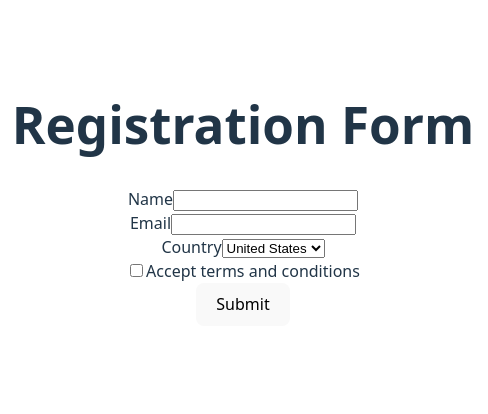
Test: ComplexForm › shows validation errors and submits correctly - user event
The image size is (488, 414).
// Submit without filling anything
Click the button.
click(243, 304)  # box [196,283,290,326]
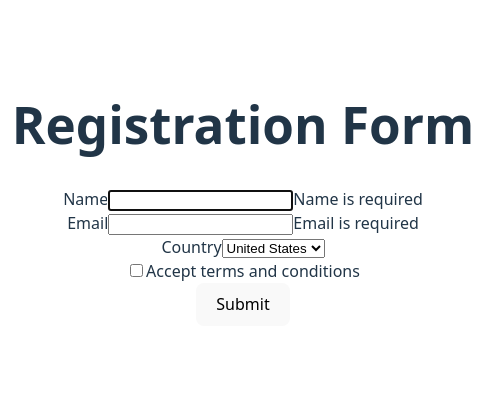
expect the text "Name is required" is shown: met, box [293,188,423,210]
expect the text "Email is required" is shown: met, box [293,212,419,234]
// Fill the form
Type "Alice" into the field labelled "Name".
click(201, 200); type("Alice")  # box [108,190,293,211]
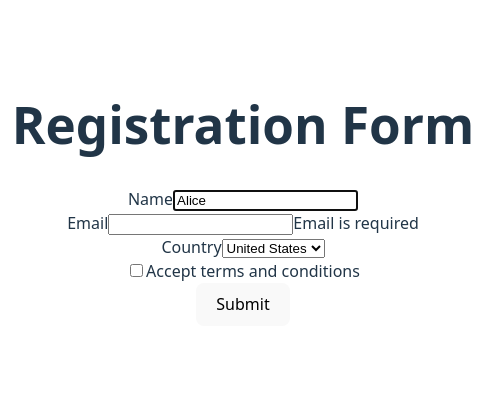
Type "alice@example.com" into the field labelled "Email".
click(201, 224); type("alice@example.com")  # box [108,214,293,235]
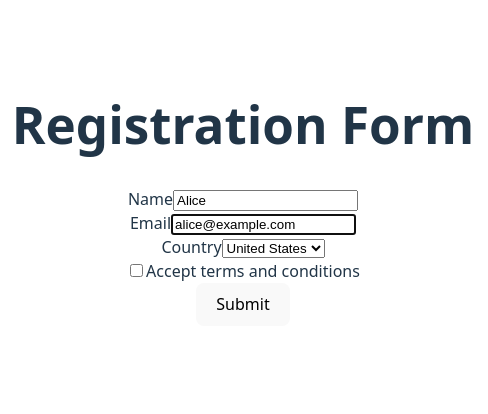
Select "Argentina" in the dropdown labelled "Country" at (273, 248), box [222,239,325,258]
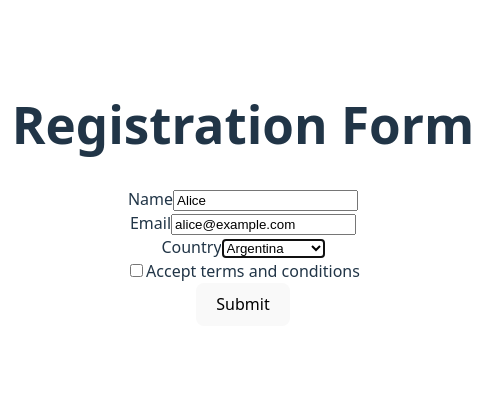
Click the checkbox labelled "Accept terms and conditions".
click(137, 270)  # box [130,264,143,277]
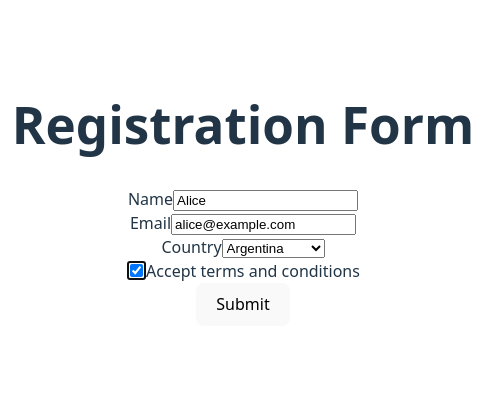
// Submit again
Click the button.
click(243, 304)  # box [196,283,290,326]
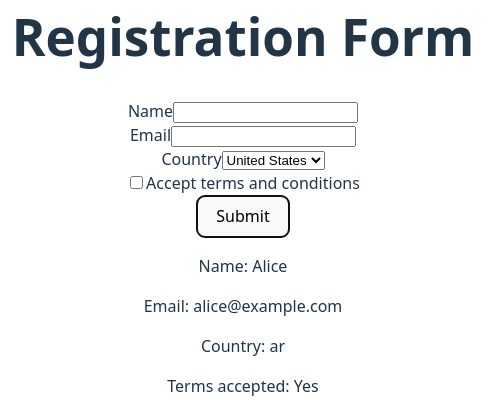
expect the element with test id "result" shows "Name: Alice": met, box [144,255,342,397]
expect the element with test id "result" shows "Email: alice@example.com": met, box [144,255,342,397]
expect the element with test id "result" shows "Country: ar": met, box [144,255,342,397]
